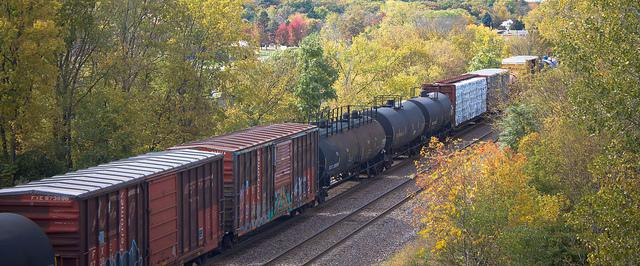Train: (0, 54, 558, 266)
